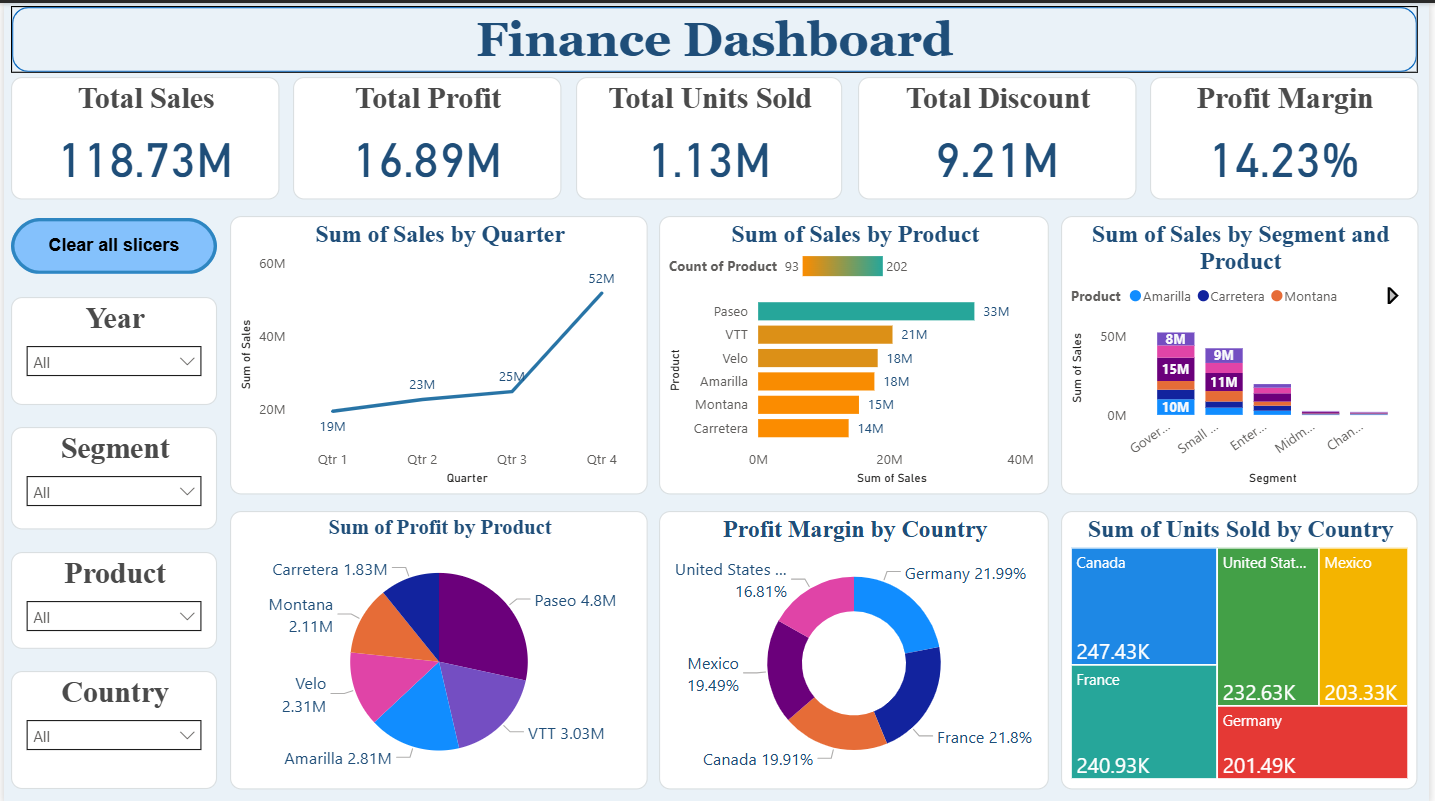

The page's visual inventory and layout, read from the dashboard file:
{"tool":"powerbi","page":{"name":"Q9  Finance Dashboard","canvas":[1280,720],"ordinal":0},"visuals":[{"type":"card","title":"Total Units Sold","fields":{"Values":["Sum(financials.Units Sold)"]},"box":[513.5,66.4,238.8,109.5],"z":0},{"type":"card","title":"Total Sales","fields":{"Values":["Sum(financials. Sales)"]},"box":[6.3,66.4,240.6,109.5],"z":1000},{"type":"card","title":"Total Profit","fields":{"Values":["Sum(financials.Profit)"]},"box":[259.5,66.4,240.6,109.5],"z":2000},{"type":"card","title":"Total Discount","fields":{"Values":["Sum(financials.Discounts)"]},"box":[766.7,66.4,249.6,109.5],"z":3000},{"type":"card","title":"Profit Margin","fields":{"Values":["financials.Profit Margin"]},"box":[1028.8,66.4,240.6,109.5],"z":4000},{"type":"columnChart","fields":{"Category":["financials.Segment"],"Y":["Sum(financials. Sales)"],"Series":["financials.Product"]},"box":[949,191.2,320.6,249.5],"z":5000},{"type":"pieChart","fields":{"Category":["financials.Product"],"Y":["Sum(financials.Profit)"]},"box":[202.9,456.1,375.3,249.6],"z":6000},{"type":"lineChart","fields":{"Category":["financials.Date.Variation.Date Hierarchy.Year","financials.Date.Variation.Date Hierarchy.Quarter","financials.Date.Variation.Date Hierarchy.Month","financials.Date.Variation.Date Hierarchy.Day"],"Y":["Sum(financials. Sales)"]},"box":[203,191.2,375,249.5],"z":7000},{"type":"clusteredBarChart","fields":{"Category":["financials.Product"],"Y":["Sum(financials. Sales)"]},"box":[588.3,191.2,350.4,249.5],"z":8000},{"type":"donutChart","fields":{"Y":["financials.Profit Margin"],"Category":["financials.Country"]},"box":[588.5,456.1,350.1,249.6],"z":9000},{"type":"slicer","title":"Segment","fields":{"Values":["financials.Segment"]},"box":[6.3,380.6,184.9,91.6],"z":10000},{"type":"slicer","title":"Product","fields":{"Values":["financials.Product"]},"box":[6.3,492.4,184.9,87.1],"z":11000},{"type":"slicer","title":"Year","fields":{"Values":["financials.Year"]},"box":[6.3,263.5,184.9,97],"z":12000},{"type":"treemap","fields":{"Group":["financials.Country"],"Values":["Sum(financials.Units Sold)"]},"box":[948.9,456.1,320.5,249.6],"z":13000},{"type":"slicer","title":"Country","fields":{"Values":["financials.Country"]},"box":[6.3,599.7,184.9,105.9],"z":14000},{"type":"actionButton","box":[6.3,193,184.9,50.3],"z":15000},{"type":"shape","box":[6.3,2.7,1263.1,60.1],"z":16000}]}

Visuals, with their boxes in screenshot pixels (x1, y1, x2, y2), scaled from the page's 1280x720 canvas onto the 1435x801 screenshot:
"Total Units Sold" card: select_region(576, 74, 843, 196)
"Total Sales" card: select_region(7, 74, 277, 196)
"Total Profit" card: select_region(291, 74, 561, 196)
"Total Discount" card: select_region(860, 74, 1139, 196)
"Profit Margin" card: select_region(1153, 74, 1423, 196)
columnChart - financials.Segment x Sum(financials. Sales): select_region(1064, 213, 1423, 490)
pieChart - financials.Product x Sum(financials.Profit): select_region(227, 507, 648, 785)
lineChart - financials.Date.Variation.Date Hierarchy.Year x financials.Date.Variation.Date Hierarchy.Quarter: select_region(228, 213, 648, 490)
clusteredBarChart - financials.Product x Sum(financials. Sales): select_region(660, 213, 1052, 490)
donutChart - financials.Profit Margin x financials.Country: select_region(660, 507, 1052, 785)
"Segment" slicer: select_region(7, 423, 214, 525)
"Product" slicer: select_region(7, 548, 214, 645)
"Year" slicer: select_region(7, 293, 214, 401)
treemap - financials.Country x Sum(financials.Units Sold): select_region(1064, 507, 1423, 785)
"Country" slicer: select_region(7, 667, 214, 785)
actionButton: select_region(7, 215, 214, 271)
shape: select_region(7, 3, 1423, 70)
